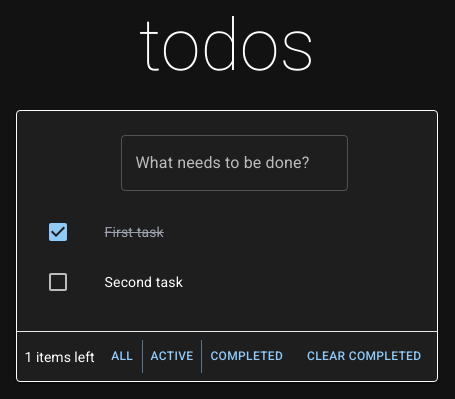
Scenario: Tasks tests › Only checked task can be deleted
What coordinates should you click on to do the following:
click the button with test id "delete-btn"
I would click on:
 (364, 356)
Its box is [299,340,429,373].
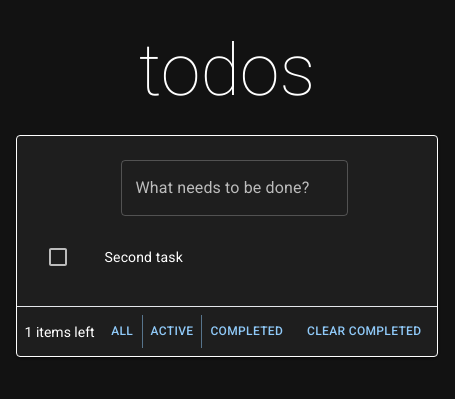
Expected: the text "Second task" is shown, [105,249,183,265]
Expected: the button "First task" is gone
